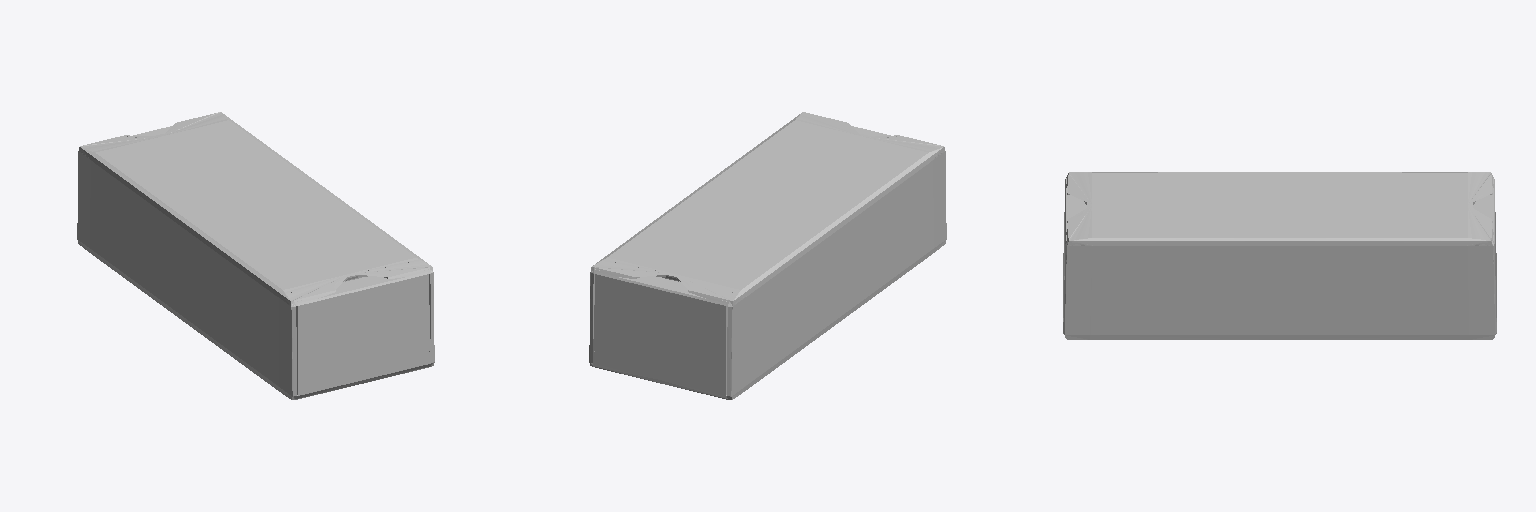
File: pistol-ammo-pack.obj
The picture shows the model from 3 angles: view 1: azimuth 30°, elevation 25°; view 2: azimuth 150°, elevation 25°; view 3: azimuth 270°, elevation 25°; orthographic projection.
Visible parts, largest first — view 1: основа_пачки_Куб.046; view 2: основа_пачки_Куб.046; view 3: основа_пачки_Куб.046.
Boxes of the visible parts, box(x1,y1,x2,y2) form: основа_пачки_Куб.046: box(77, 112, 434, 399); основа_пачки_Куб.046: box(589, 112, 946, 399); основа_пачки_Куб.046: box(1063, 172, 1496, 339).
Size of the model in its own units: 0.2414 by 0.1646 by 0.6357.